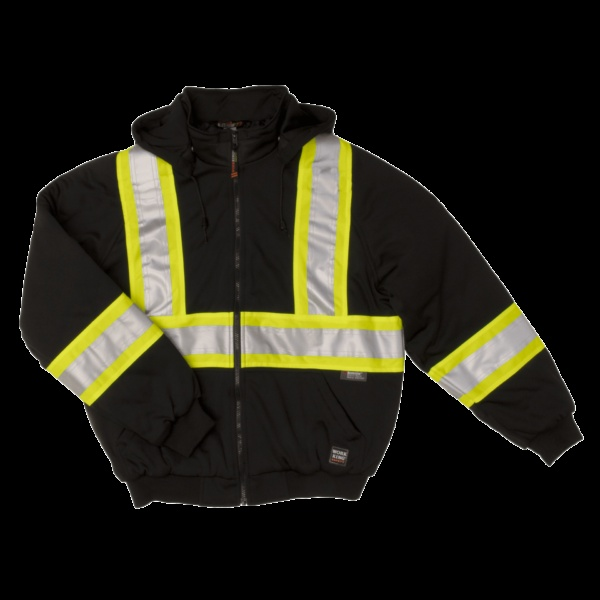safety vest: (49, 84, 415, 513)
